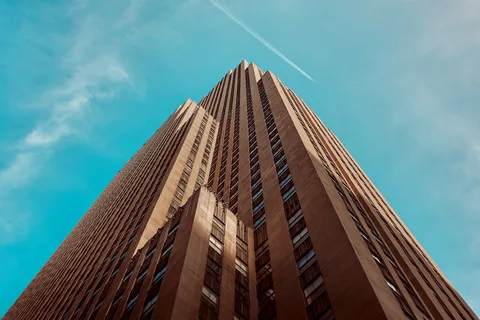high_rise_building: (137, 41, 366, 319)
